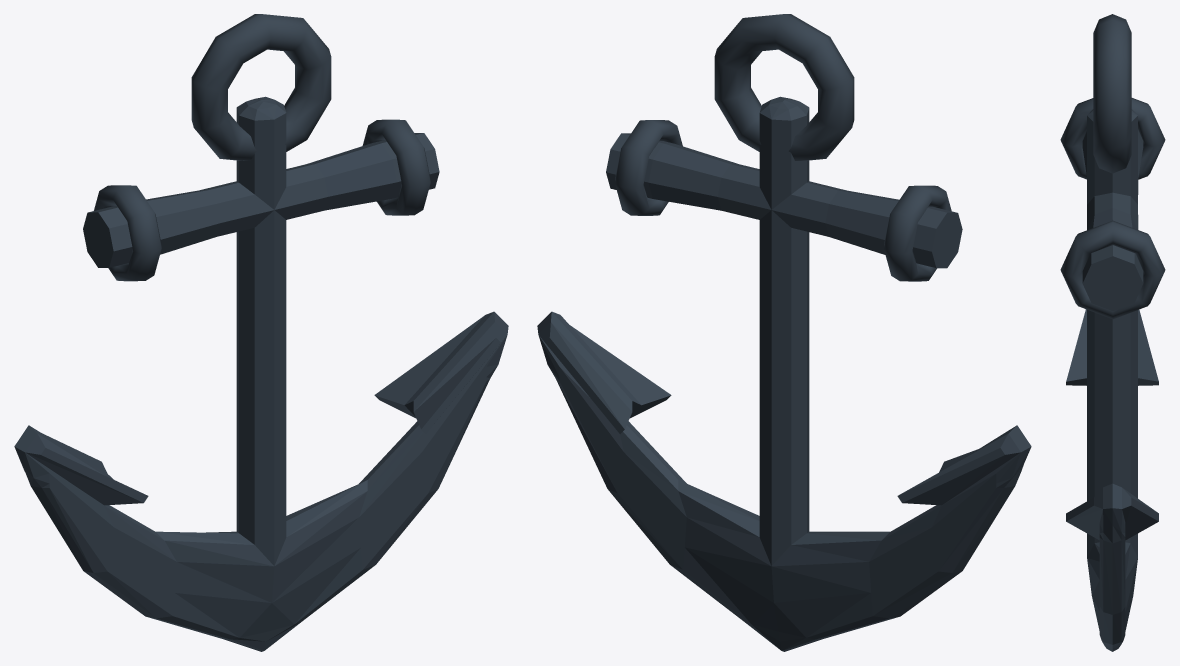
File: anchor.fbx
3 renders of one model, left to right at view 1: azimuth 30°, elevation 25°; view 2: azimuth 150°, elevation 25°; view 3: azimuth 270°, elevation 25°, orthographic.
Parts seen in each view (by area): view 1: anchor; view 2: anchor; view 3: anchor.
Boxes of the visible parts, x1=… form: anchor: x1=14, y1=14, x2=508, y2=651; anchor: x1=537, y1=14, x2=1031, y2=651; anchor: x1=1060, y1=14, x2=1165, y2=651.
Bounding box in the file's own units: 143 × 176 × 26.55.
1 material, 1 textured.
